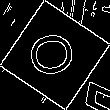O_E: (26, 29, 84, 81)
